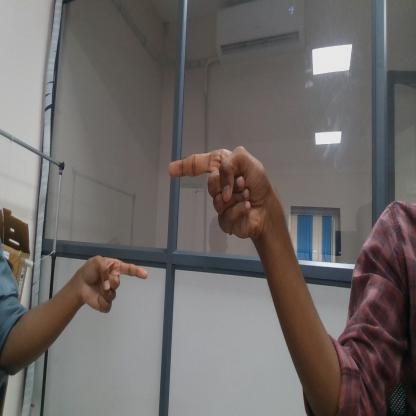Left: (78, 250, 156, 320)
Right: (161, 133, 279, 252)
